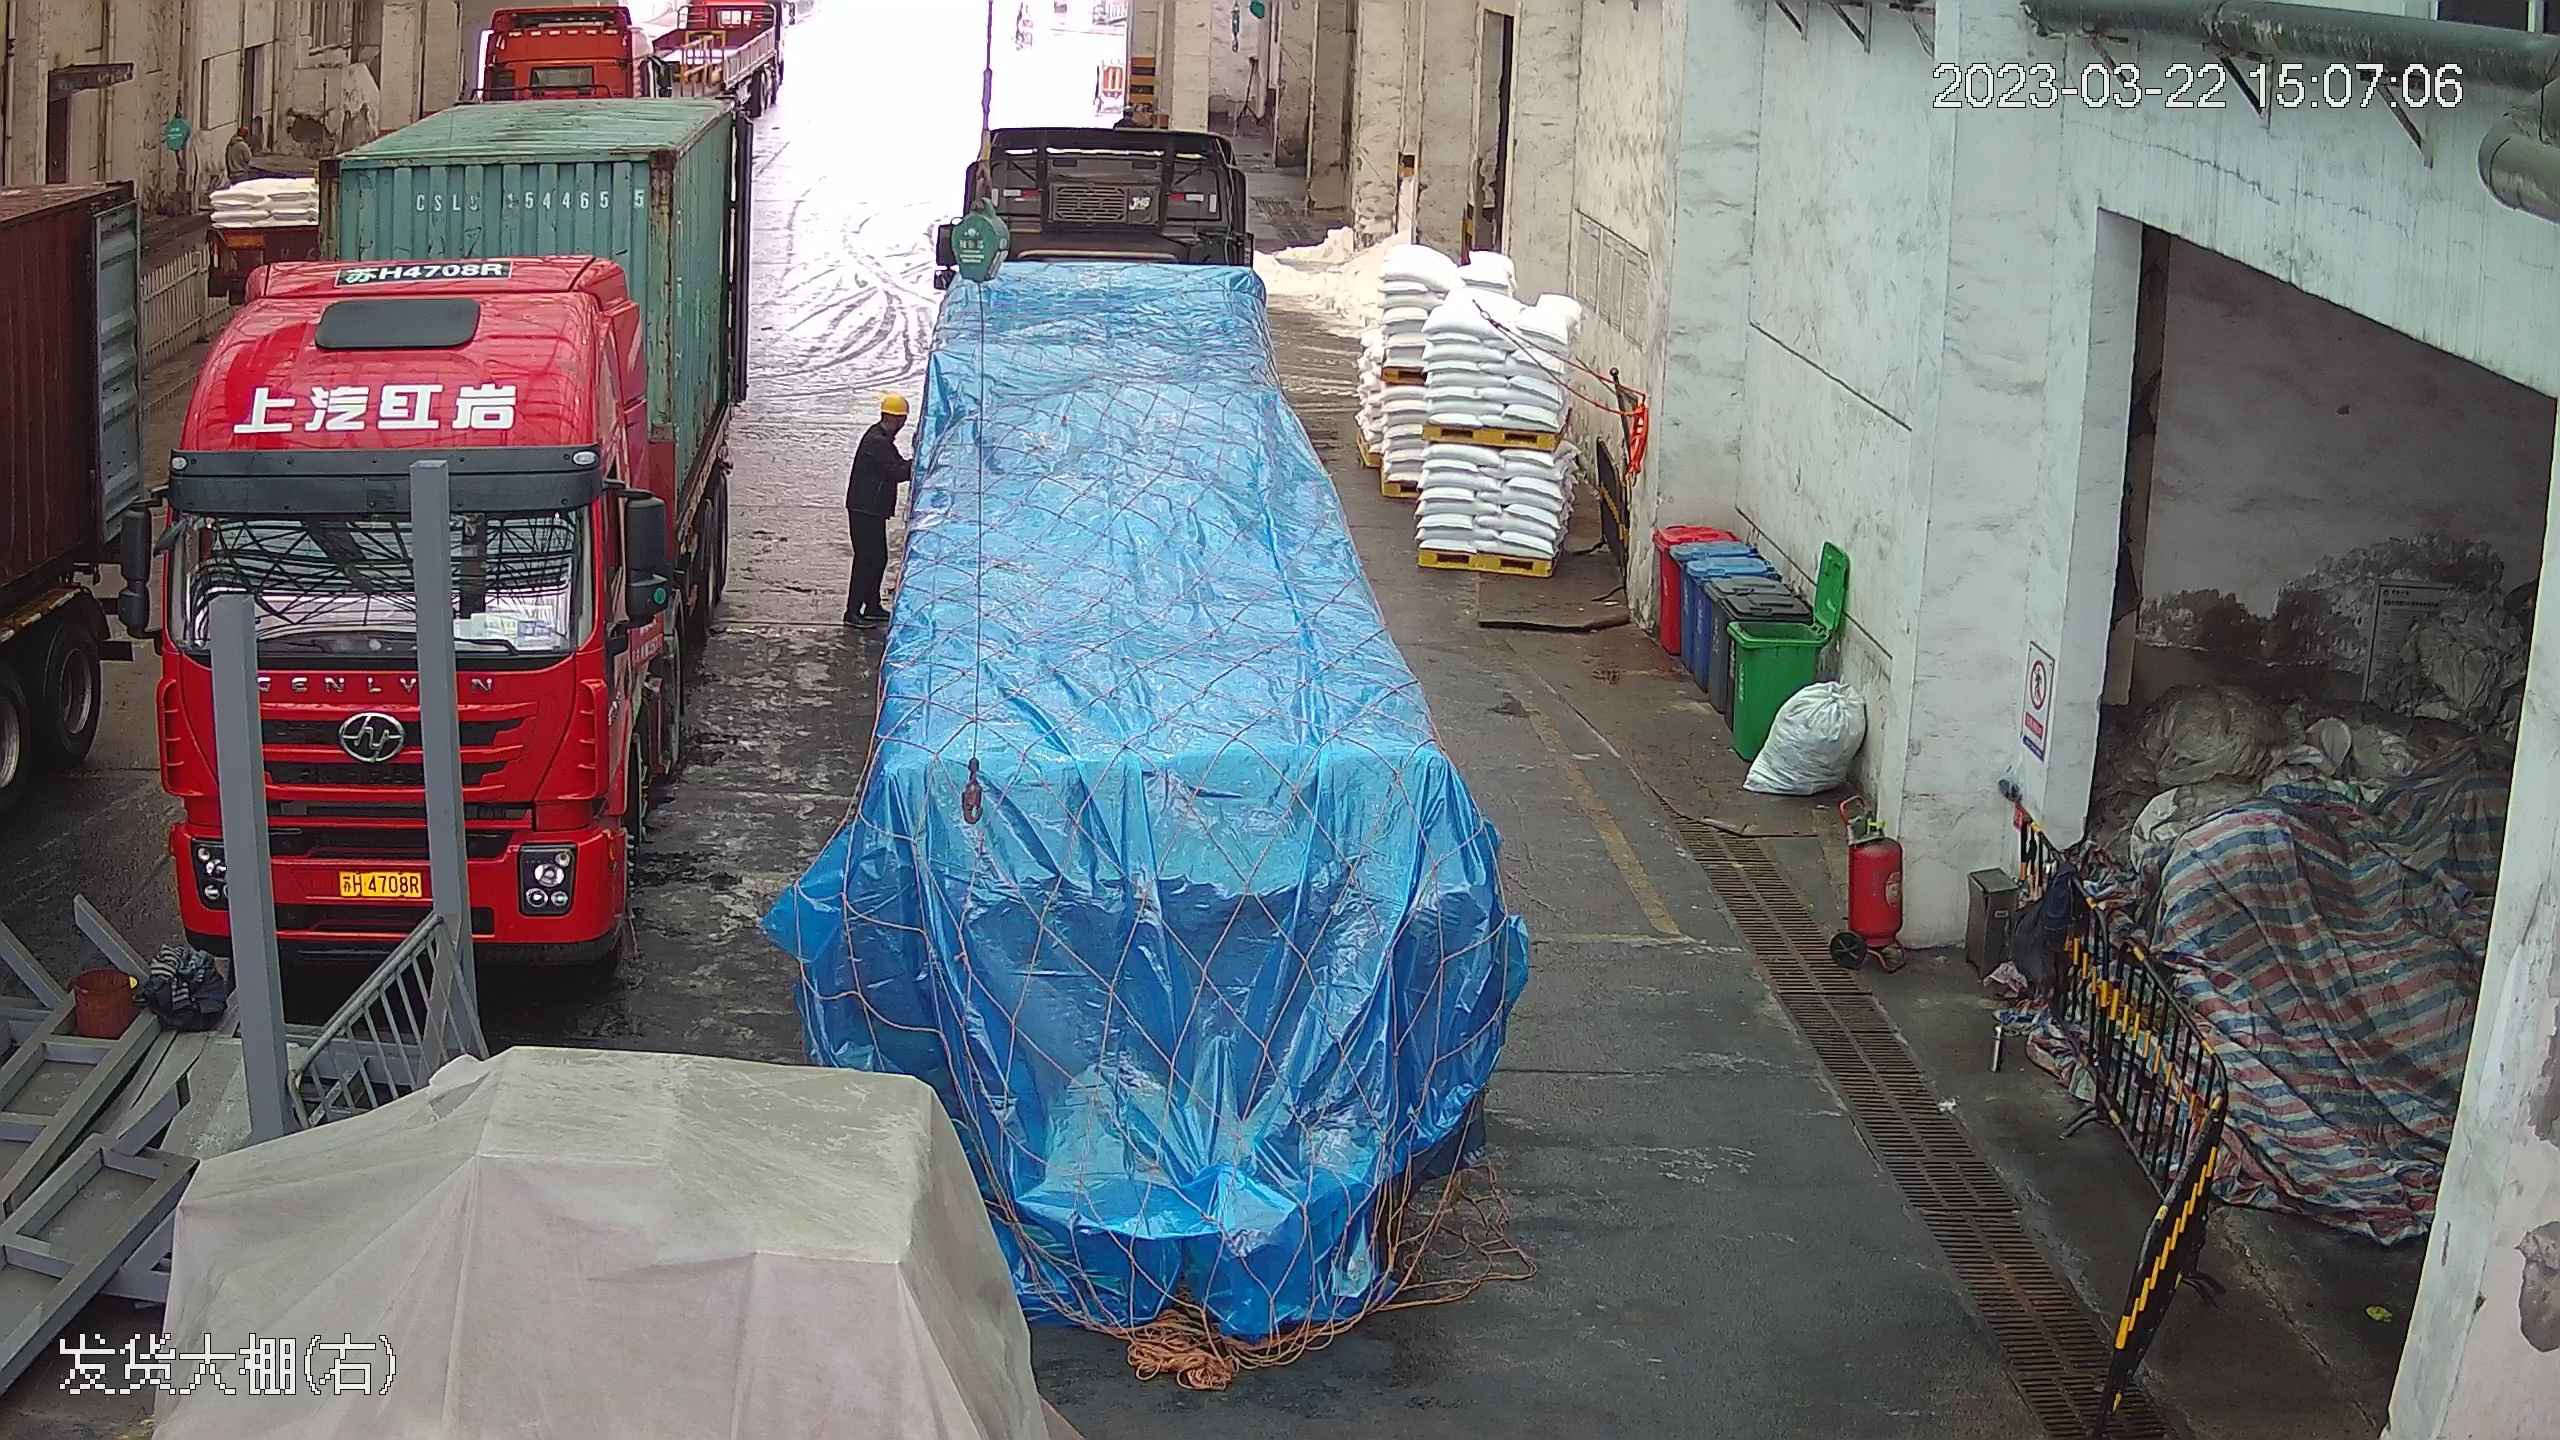head: (851, 386, 911, 465)
helmet: (874, 386, 910, 416)
people: (838, 382, 915, 643)
truck: (791, 33, 1566, 1405), (144, 12, 763, 966), (1, 95, 164, 1061)
